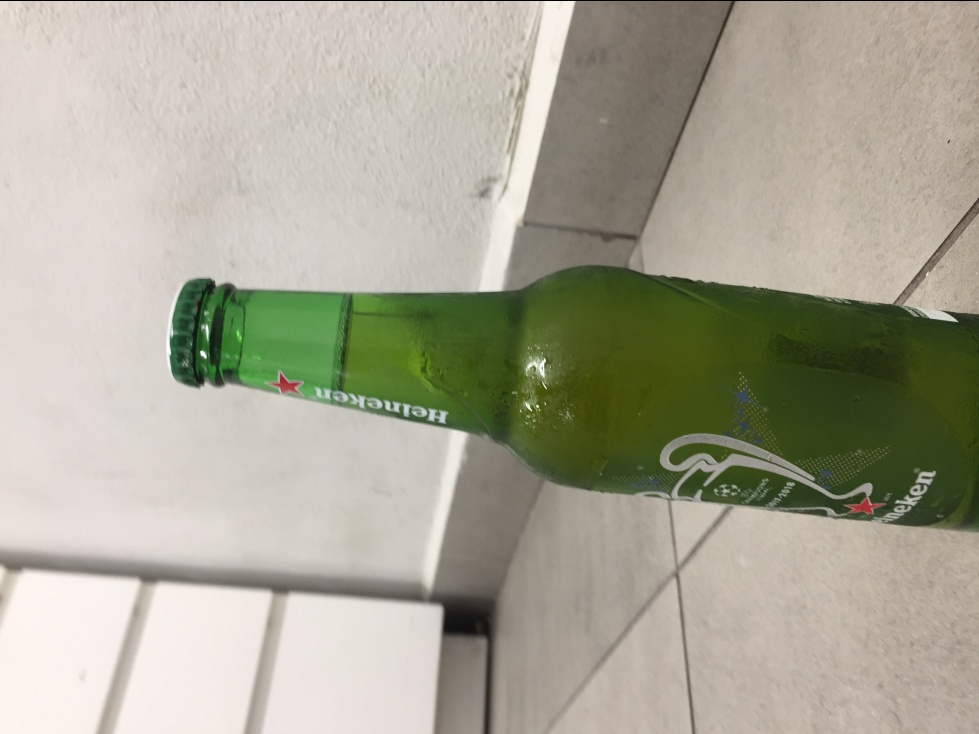heineken: (167, 262, 978, 532)
